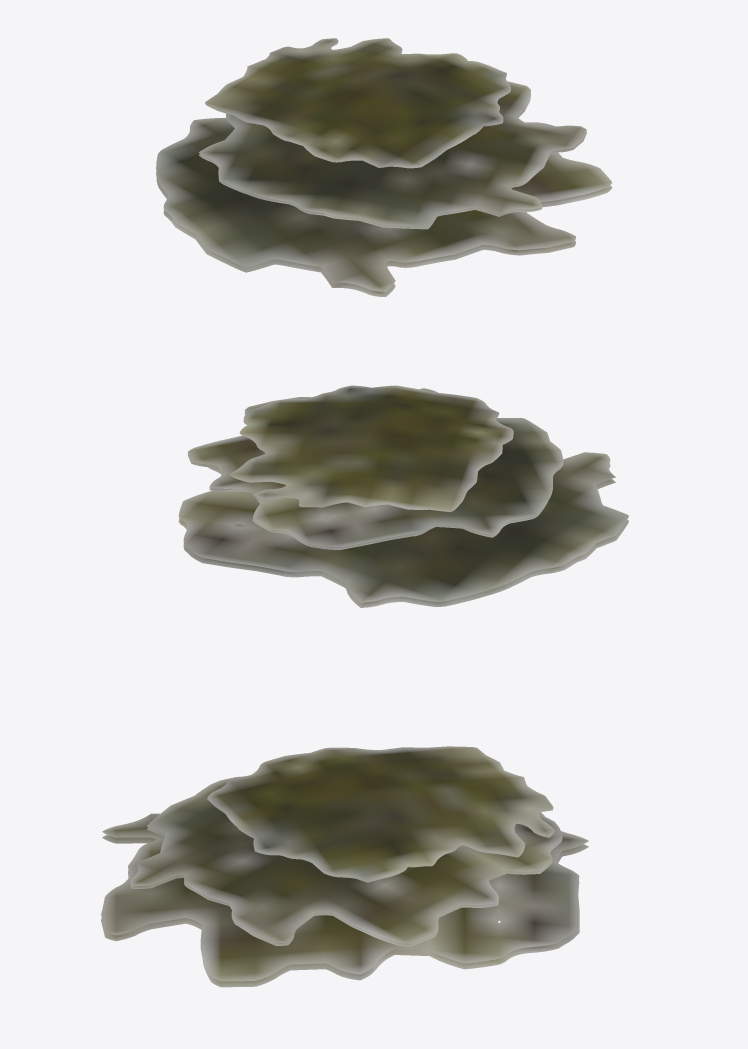
The model's file is bz_bush_01.fbx.
3 views of the same model, one above another, from view 1: azimuth 30°, elevation 25°; view 2: azimuth 150°, elevation 25°; view 3: azimuth 270°, elevation 25° (orthographic). The views are drawn at different scales.
Parts seen in each view (by area): view 1: bz_bush_01; view 2: bz_bush_01; view 3: bz_bush_01.
Part boxes in pixels (left/top/right/bottom): bz_bush_01: left=156, top=38, right=612, bottom=296; bz_bush_01: left=178, top=385, right=628, bottom=607; bz_bush_01: left=101, top=746, right=588, bottom=987.
Size of the model in its own units: 1.82 by 0.3272 by 1.82.
